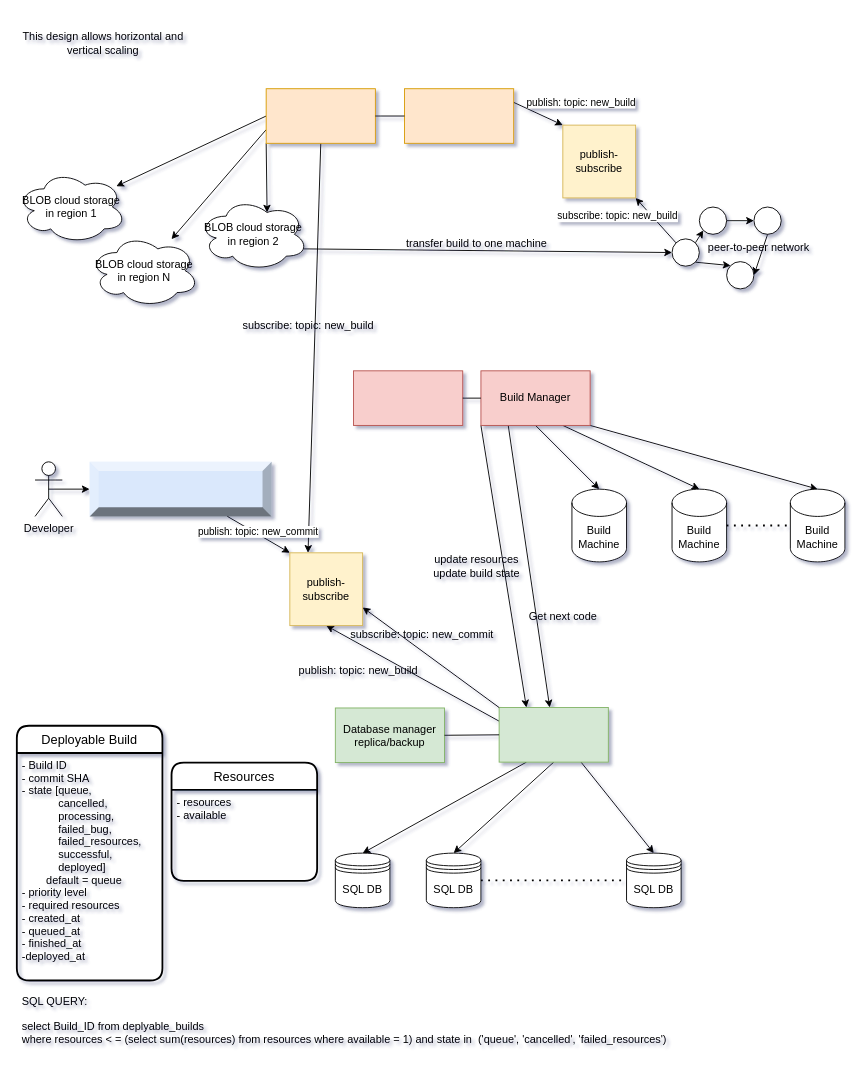
Some shapes in this 866 by 1092 pixel diagram are drawn without their labels. The centre of each missing label's shape, as x and y in pixels:
"Build Manager replica/backup" goes at [408,397].
"Database Manager" goes at [553,734].
"push to master uses github actions" goes at [180,488].
"Storage Manager" goes at [320,115].
"Storage Manager replica/backup" goes at [459,115].
